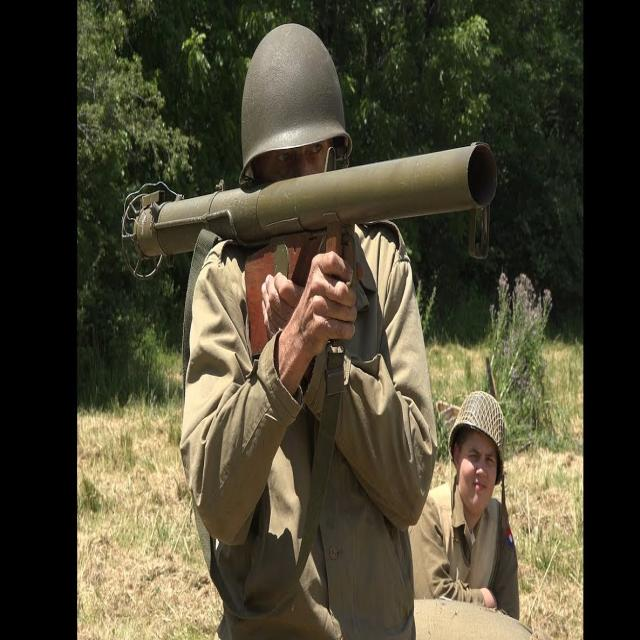Weapon: (122, 143, 496, 280)
